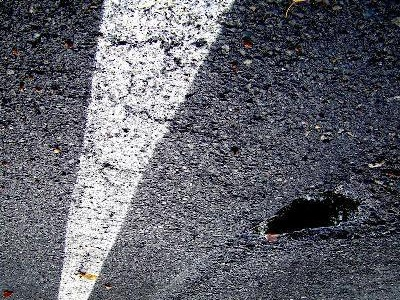pothole: (256, 173, 378, 246)
